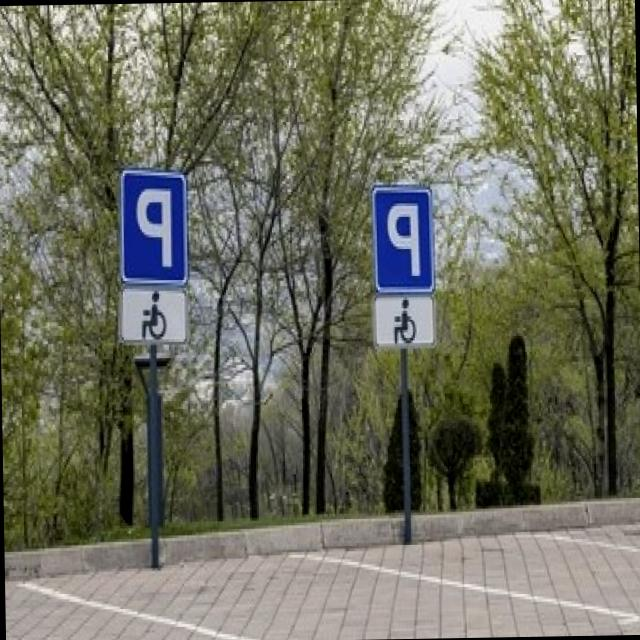symbol_of_access: (378, 294, 431, 348), (130, 286, 174, 340)
